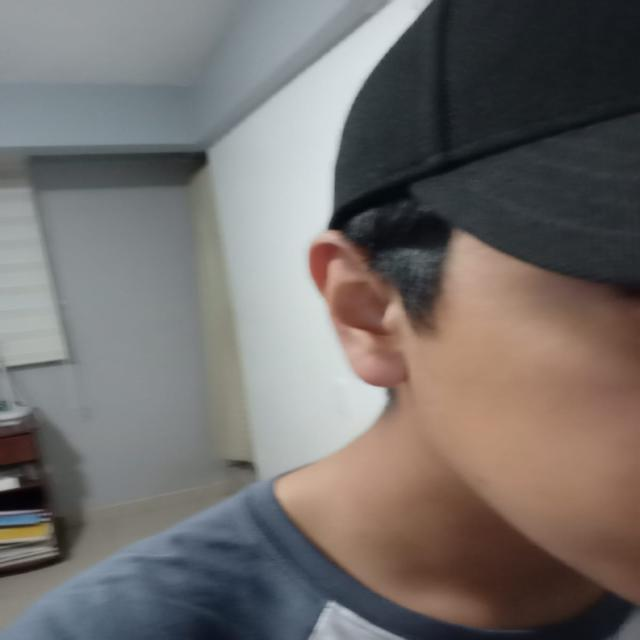ear: (310, 230, 418, 388)
